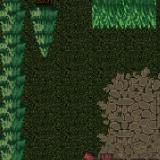Obstacle: (28, 126, 160, 160), (0, 0, 28, 160), (28, 0, 62, 29)
Slow: (92, 0, 156, 28)
